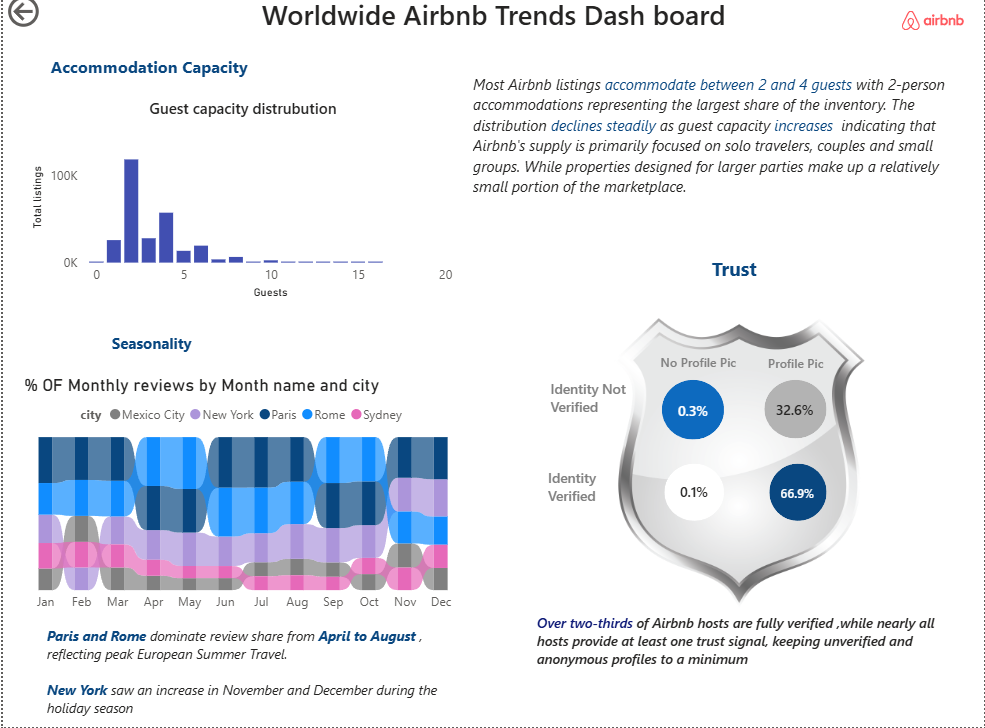

The dashboard page shown, as its layout file describes it:
{"tool":"powerbi","page":{"name":"Reviews ","canvas":[960,720],"ordinal":2},"visuals":[{"type":"textbox","box":[244.6,0,470.8,75.8],"z":0},{"type":"image","box":[879.2,0,61.1,57.5],"z":1000},{"type":"textbox","box":[15.9,57.5,254.3,47.7],"z":2000},{"type":"actionButton","box":[0,0,100,40],"z":3000},{"type":"textbox","box":[454.9,75.8,481.8,195.7],"z":4000},{"type":"textbox","box":[618.8,254.3,193.2,51.4],"z":5000},{"type":"image","box":[480.6,245.8,479.4,431.7],"z":6000},{"type":"shape","box":[749.6,462.2,56.3,56.3],"z":7000},{"type":"cardVisual","fields":{"Data":["Listings.Verified_Profile%"]},"box":[676.2,440.2,203,100.3],"z":8000},{"type":"shape","box":[646.9,462.2,58.7,56.3],"z":9000},{"type":"cardVisual","fields":{"Data":["Listings.Verified_NoProfile%"]},"box":[627.3,437.8,97.8,102.7],"z":10000},{"type":"shape","box":[744.7,380.3,61.1,57.5],"z":11000},{"type":"cardVisual","fields":{"Data":["Listings.Not_Verified_Profile%"]},"box":[610.2,305.7,328.9,204.2],"z":12000},{"type":"shape","box":[644.4,380.3,61.1,58.7],"z":13000},{"type":"cardVisual","fields":{"Data":["Listings.NotVerified_NoProfile%"]},"box":[446.3,250.7,457.3,317.9],"z":14000},{"type":"textbox","box":[638.3,348.5,154.1,46.5],"z":15000},{"type":"textbox","box":[743.5,349.7,124.7,45.2],"z":16000},{"type":"textbox","box":[530.7,375.4,96.6,67.3],"z":17000},{"type":"textbox","box":[528.3,462.2,62.4,64.8],"z":18000},{"type":"textbox","box":[517.3,604.1,423.1,73.4],"z":19000},{"type":"ribbonChart","fields":{"Y":["Listings.% OF Monthly reviews"],"Series":["Listings.city"],"Category":["Reviews.Month name"]},"box":[15.9,375.4,439,240.9],"z":20000},{"type":"textbox","box":[37.9,328.9,215.2,40.4],"z":21000},{"type":"textbox","box":[37.9,616.3,408.4,103.9],"z":22000},{"type":"clusteredColumnChart","title":"Guest capacity distrubution","fields":{"Category":["Listings.accommodates"],"Y":["Count(Listings.listing_id)"]},"box":[23.2,103.9,423.1,201.8],"z":23000}]}

Visuals, with their boxes in screenshot pixels (x1, y1, x2, y2), scaled from the page's 960x720 canvas onto the 985x728 screenshot:
textbox: select_region(251, 0, 734, 77)
image: select_region(902, 0, 965, 58)
textbox: select_region(16, 58, 277, 106)
actionButton: select_region(0, 0, 103, 40)
textbox: select_region(467, 77, 961, 275)
textbox: select_region(635, 257, 833, 309)
image: select_region(493, 249, 984, 685)
shape: select_region(769, 467, 827, 524)
cardVisual - Listings.Verified_Profile%: select_region(694, 445, 902, 547)
shape: select_region(664, 467, 724, 524)
cardVisual - Listings.Verified_NoProfile%: select_region(644, 443, 744, 547)
shape: select_region(764, 385, 827, 443)
cardVisual - Listings.Not_Verified_Profile%: select_region(626, 309, 964, 516)
shape: select_region(661, 385, 724, 444)
cardVisual - Listings.NotVerified_NoProfile%: select_region(458, 253, 927, 575)
textbox: select_region(655, 352, 813, 399)
textbox: select_region(763, 354, 891, 399)
textbox: select_region(545, 380, 644, 448)
textbox: select_region(542, 467, 606, 533)
textbox: select_region(531, 611, 965, 685)
ribbonChart - Listings.% OF Monthly reviews x Listings.city: select_region(16, 380, 467, 623)
textbox: select_region(39, 333, 260, 373)
textbox: select_region(39, 623, 458, 727)
"Guest capacity distrubution" clusteredColumnChart: select_region(24, 105, 458, 309)
